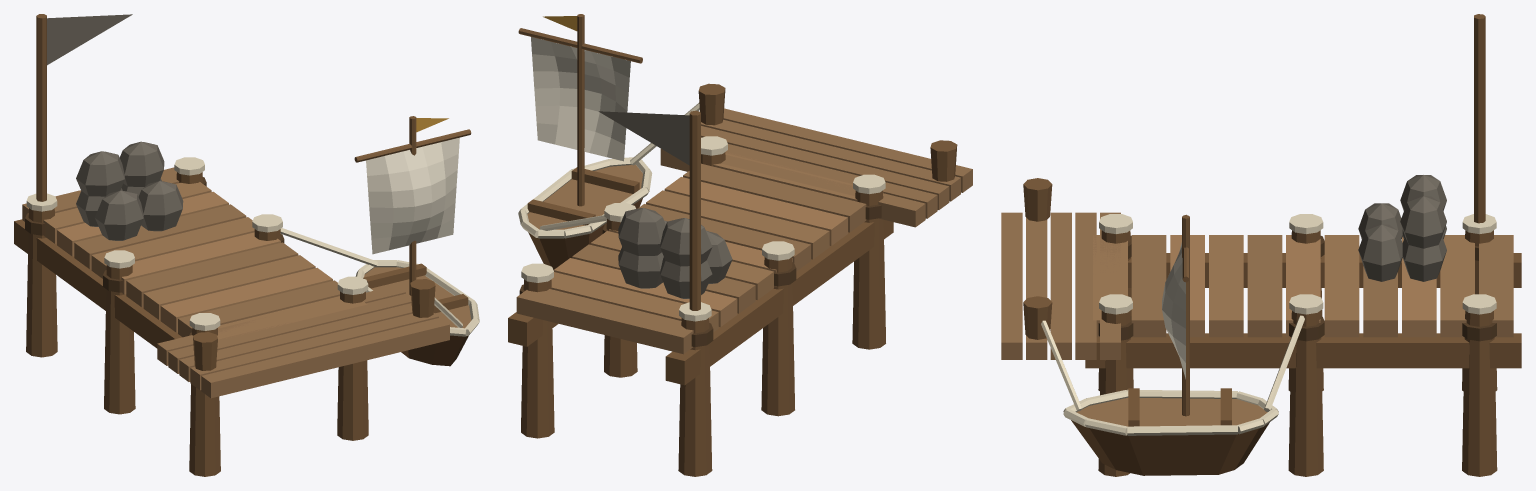
Rendered from harbor-ore.glb.
3 views of the same model, side by side, from view 1: azimuth 30°, elevation 25°; view 2: azimuth 150°, elevation 25°; view 3: azimuth 270°, elevation 25° (orthographic). The views are drawn at different scales.
Parts seen in each view (by area): view 1: harbor-ore, harbor-ore.003, harbor-ore.010, harbor-ore.001, harbor-ore.008, harbor-ore.002, harbor-ore.004, harbor-ore.006, harbor-ore.005, harbor-ore.007; view 2: harbor-ore.003, harbor-ore, harbor-ore.010, harbor-ore.008, harbor-ore.001, harbor-ore.002, harbor-ore.004, harbor-ore.005, harbor-ore.006, harbor-ore.007; view 3: harbor-ore.003, harbor-ore, harbor-ore.001, harbor-ore.004, harbor-ore.010, harbor-ore.002, harbor-ore.007, harbor-ore.006, harbor-ore.008, harbor-ore.005.
Part boxes in pixels (bbox=[...]): harbor-ore: bbox=[22, 167, 471, 398]; harbor-ore.003: bbox=[14, 14, 471, 476]; harbor-ore.010: bbox=[47, 14, 183, 240]; harbor-ore.001: bbox=[43, 182, 367, 339]; harbor-ore.008: bbox=[366, 137, 459, 254]; harbor-ore.002: bbox=[57, 191, 332, 332]; harbor-ore.004: bbox=[26, 157, 479, 336]; harbor-ore.006: bbox=[401, 335, 464, 366]; harbor-ore.005: bbox=[25, 177, 284, 335]; harbor-ore.007: bbox=[408, 336, 468, 365]; harbor-ore.003: bbox=[508, 14, 957, 476]; harbor-ore: bbox=[516, 108, 972, 354]; harbor-ore.010: bbox=[598, 111, 732, 298]; harbor-ore.008: bbox=[531, 37, 630, 161]; harbor-ore.001: bbox=[551, 152, 883, 332]; harbor-ore.002: bbox=[553, 177, 847, 326]; harbor-ore.004: bbox=[518, 102, 885, 321]; harbor-ore.005: bbox=[519, 204, 881, 347]; harbor-ore.006: bbox=[540, 198, 642, 269]; harbor-ore.007: bbox=[528, 232, 589, 266]; harbor-ore.003: bbox=[1023, 14, 1521, 476]; harbor-ore: bbox=[1001, 212, 1513, 426]; harbor-ore.001: bbox=[1093, 235, 1474, 337]; harbor-ore.004: bbox=[1041, 214, 1496, 435]; harbor-ore.010: bbox=[1358, 175, 1446, 281]; harbor-ore.002: bbox=[1170, 235, 1436, 337]; harbor-ore.007: bbox=[1071, 420, 1269, 475]; harbor-ore.006: bbox=[1089, 428, 1258, 475]; harbor-ore.008: bbox=[1162, 242, 1185, 379]; harbor-ore.005: bbox=[1098, 236, 1496, 341].
Bounding box in the file's own units: 0.7868 × 0.735 × 0.93.
